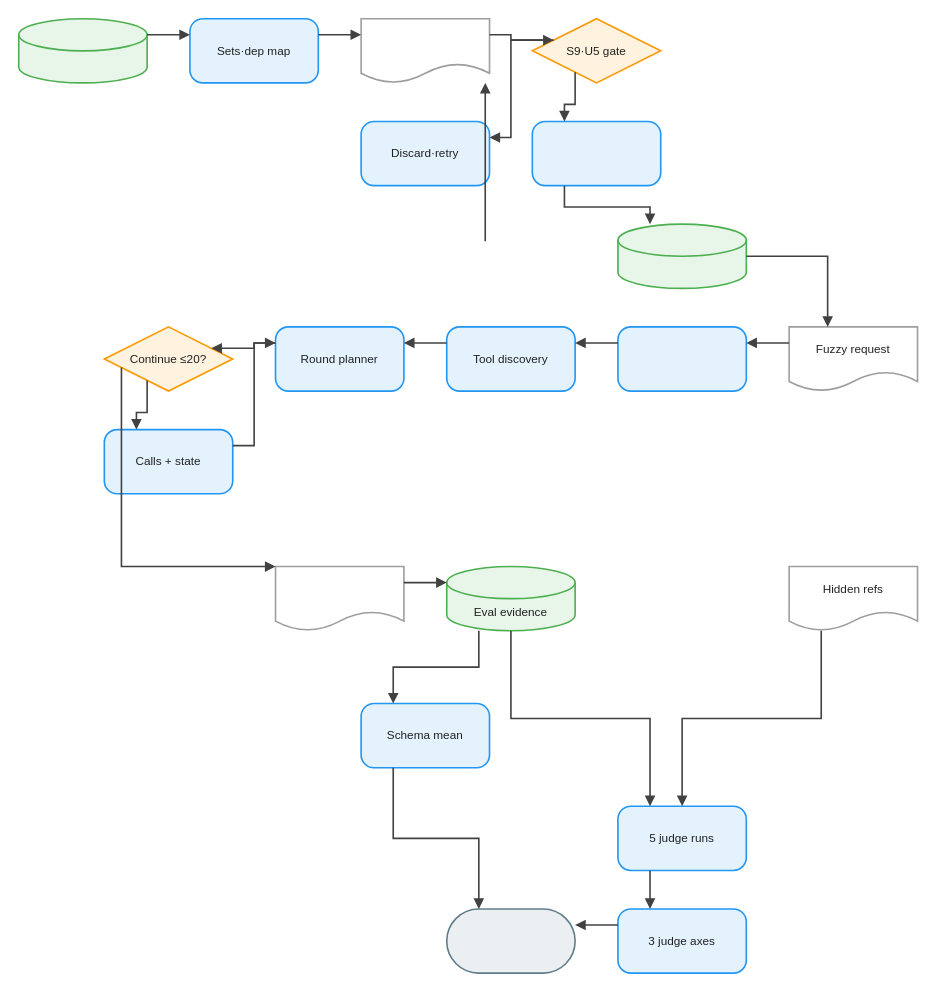
This 937x993 diagram has some shape labels left out. Each missing label, with the box of its shape:
28 MCPs·250: (17, 17, 147, 83)
3 JSON·104: (617, 223, 747, 289)
4-axis mean: (445, 908, 575, 973)
Detailed·fuzzy: (360, 17, 490, 83)
Final response: (274, 565, 404, 631)
Human review: (531, 120, 661, 186)
MCP env: (617, 326, 747, 391)
